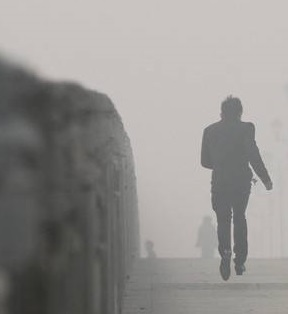person: (200, 94, 274, 282), (196, 213, 218, 257), (143, 239, 157, 259)
